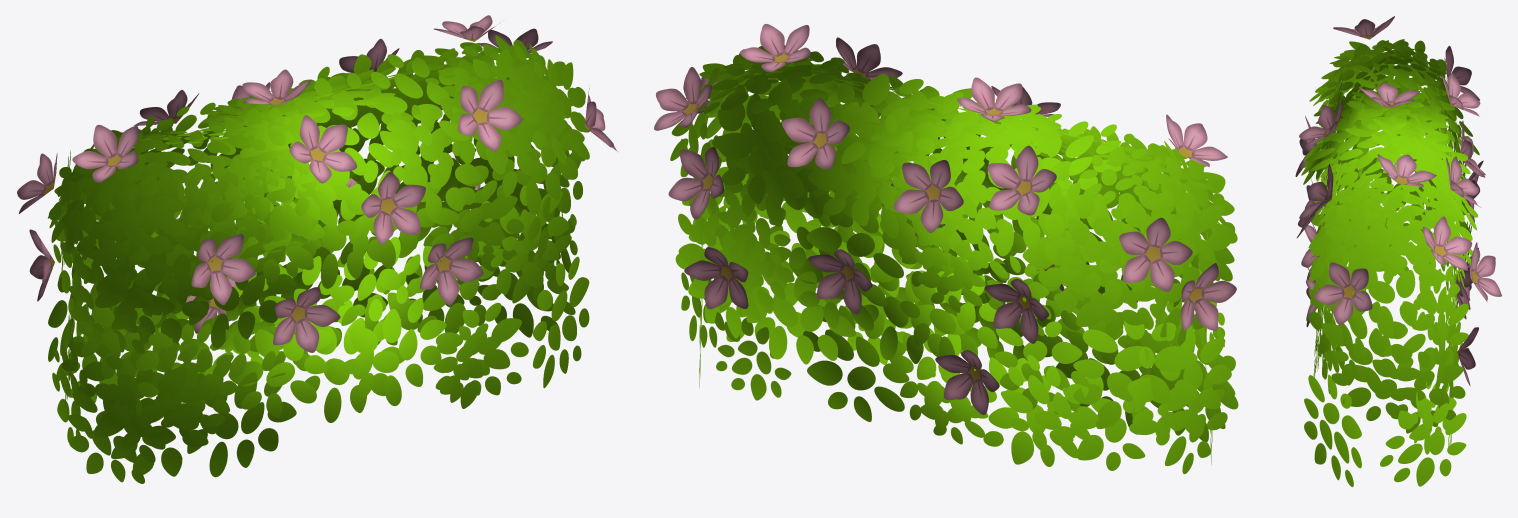
Rendered from Bush_Large_Flowers.glb.
The picture shows the model from 3 angles, left to right: view 1: azimuth 30°, elevation 25°; view 2: azimuth 150°, elevation 25°; view 3: azimuth 270°, elevation 25°; orthographic projection. The views are drawn at different scales.
Visible parts, largest first — view 1: Bush_Large_Flowers; view 2: Bush_Large_Flowers; view 3: Bush_Large_Flowers.
Part boxes in pixels (x1,y1,x2,y2): Bush_Large_Flowers: [17, 15, 617, 483]; Bush_Large_Flowers: [654, 24, 1238, 474]; Bush_Large_Flowers: [1295, 16, 1501, 487].
Bounding box in the file's own units: 1.93 × 1.26 × 0.7617.
Materials: 2 (2 with a texture image).
